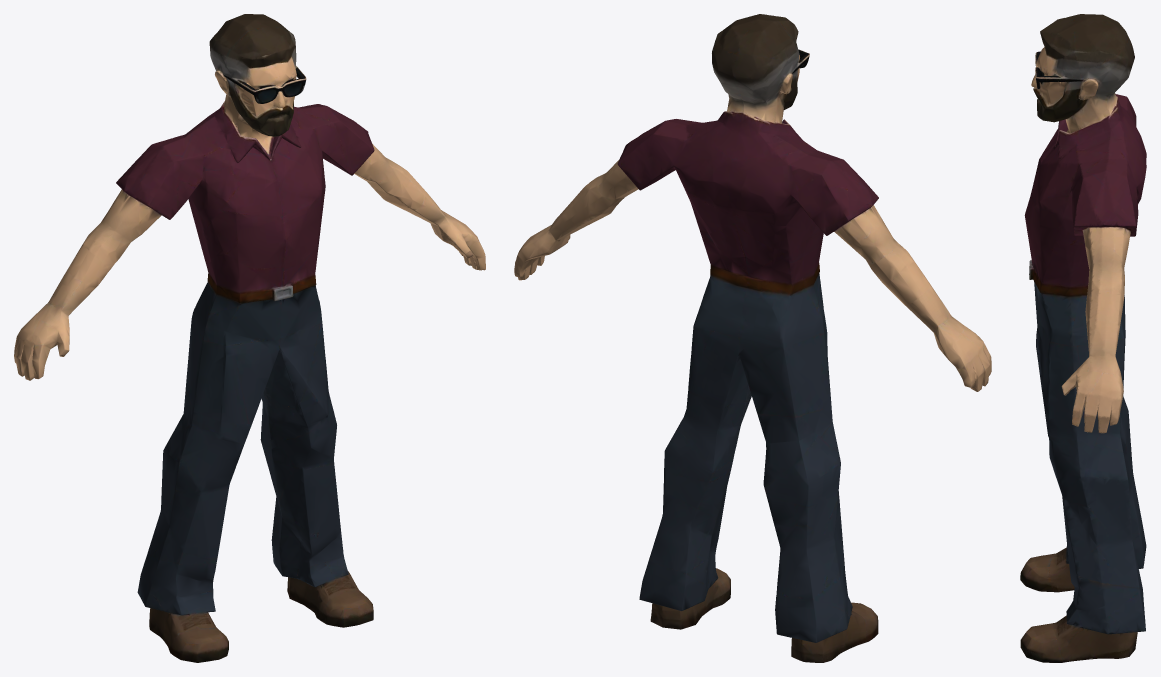
File: itme-brain.glb
3 views of the same model, side by side, from view 1: azimuth 30°, elevation 25°; view 2: azimuth 150°, elevation 25°; view 3: azimuth 270°, elevation 25° (orthographic).
Visible parts, largest first — view 1: mesh_node; view 2: mesh_node; view 3: mesh_node.
Boxes of the visible parts, <box> form: mesh_node: <box>14,14,485,662</box>; mesh_node: <box>514,14,991,662</box>; mesh_node: <box>1020,14,1146,662</box>.
Bounding box in the file's own units: 1.52 × 1.9 × 0.3653.
1 material, 1 textured.
